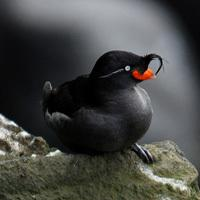005.Crested_Auklet: (41, 50, 164, 165)
